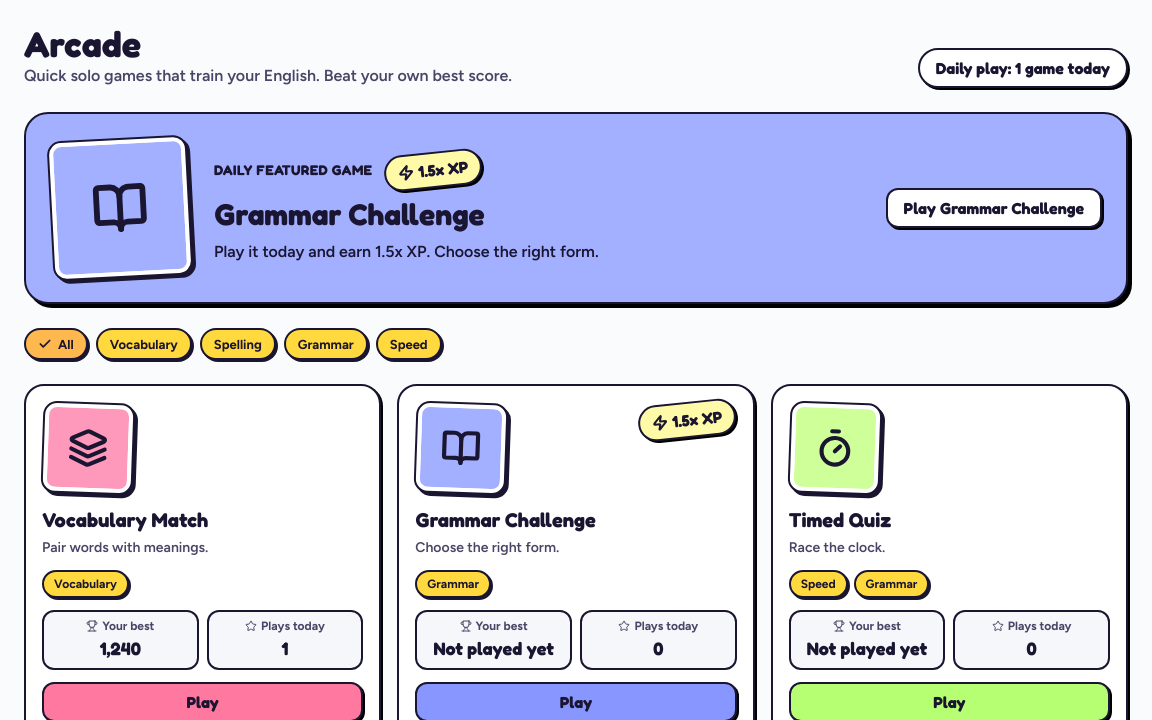
Test case: GamesHubPage › filters the grid by skill
This screenshot has width=1152, height=720.
What coordinates should you click on to do the following:
click the button "Speed"
I would click on:
 (409, 344)
Its box is [378, 330, 440, 358].
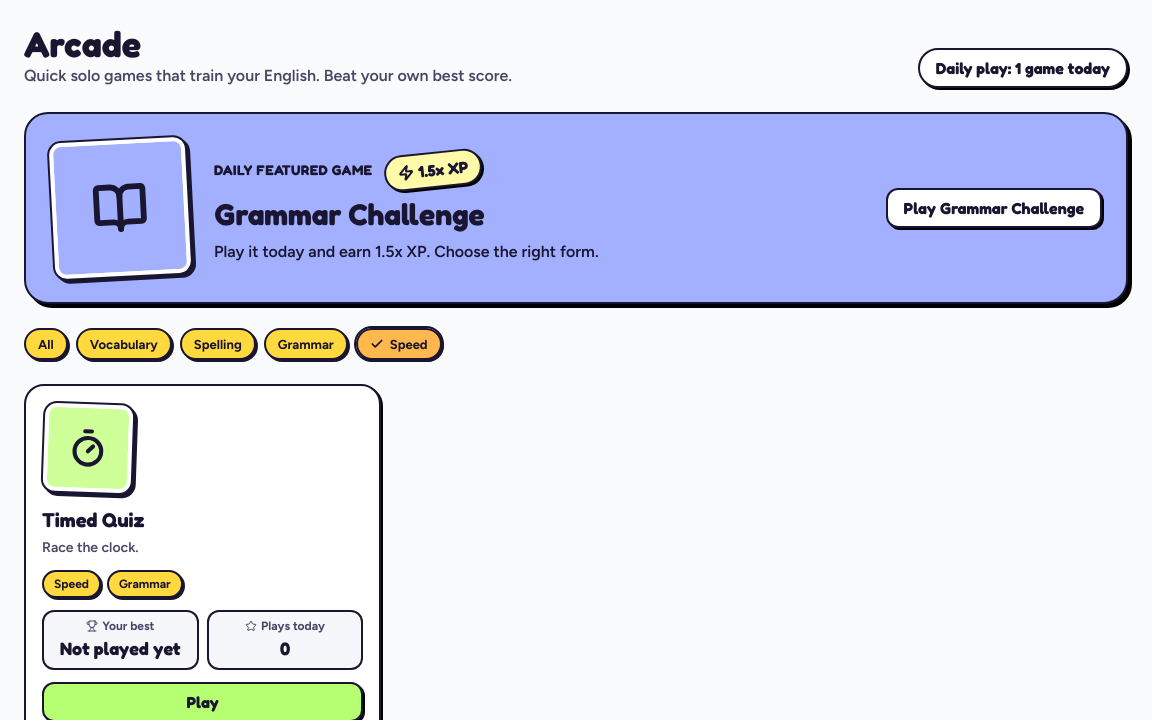
Check: the heading "Timed Quiz" is shown, box [42, 508, 144, 532]
Check: the heading "Vocabulary Match" is gone
